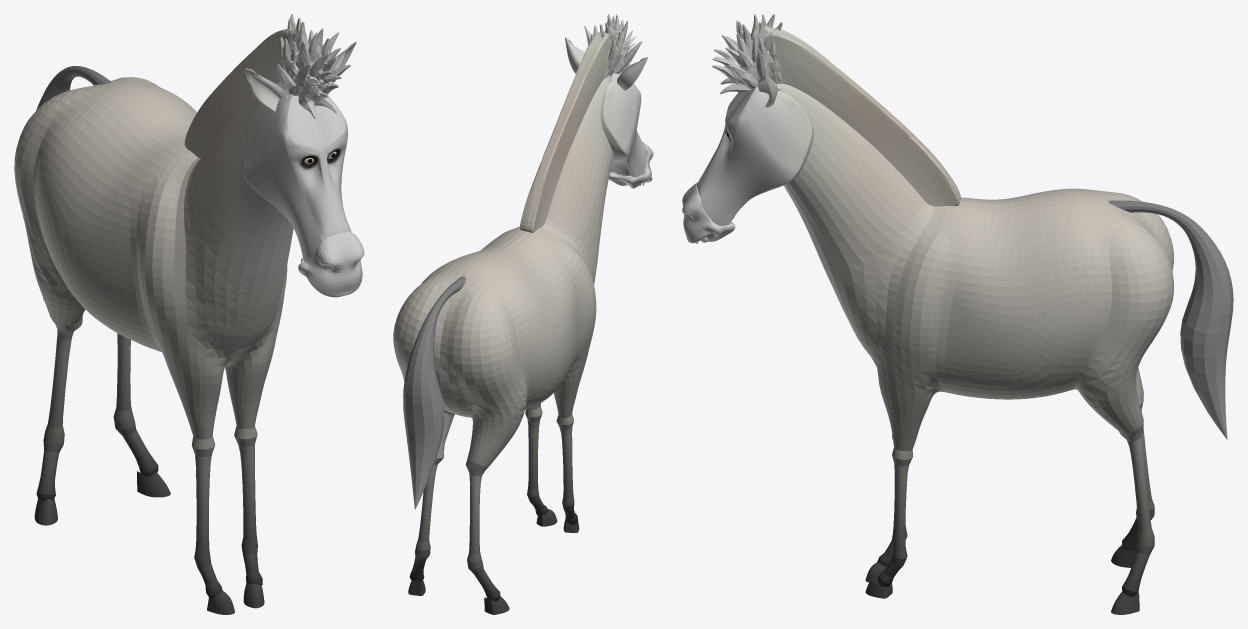
Rendered from zebra.gltf.
3 views of the same model, side by side, from view 1: azimuth 30°, elevation 25°; view 2: azimuth 150°, elevation 25°; view 3: azimuth 270°, elevation 25° (orthographic). The views are drawn at different scales.
Visible parts, largest first — view 1: zebra_03; view 2: zebra_03; view 3: zebra_03.
Boxes of the visible parts, x1,y1,x2,y2 form: zebra_03: [14, 14, 364, 614]; zebra_03: [393, 14, 653, 614]; zebra_03: [682, 14, 1233, 614].
Bounding box in the file's own units: 0.4681 × 1.65 × 1.44.
